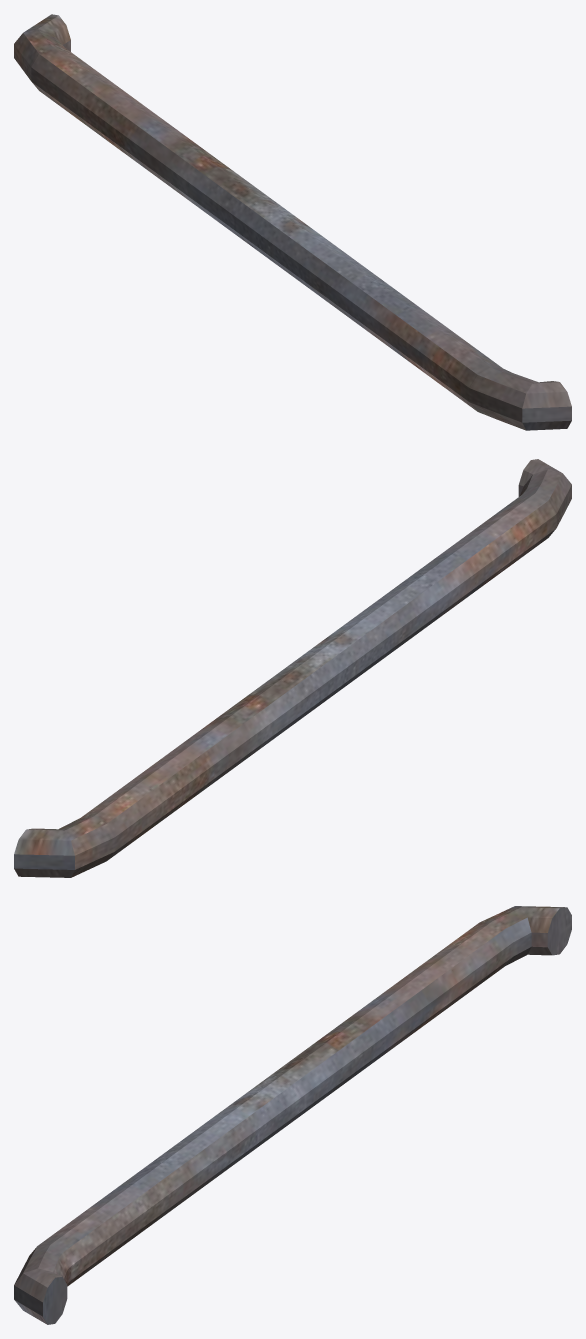
Rendered from BasePipeTextured 1.fbx.
The picture shows the model from 3 angles, top to bottom: view 1: azimuth 30°, elevation 25°; view 2: azimuth 150°, elevation 25°; view 3: azimuth 330°, elevation 25°; orthographic projection.
Parts seen in each view (by area): view 1: BasePipe; view 2: BasePipe; view 3: BasePipe.
Part boxes in pixels (x1,y1,x2,y2): BasePipe: (14,14,571,430); BasePipe: (14,459,571,877); BasePipe: (14,906,571,1324).
Size of the model in its own units: 31.77 by 24 by 499.
Materials: 1 (1 with a texture image).
